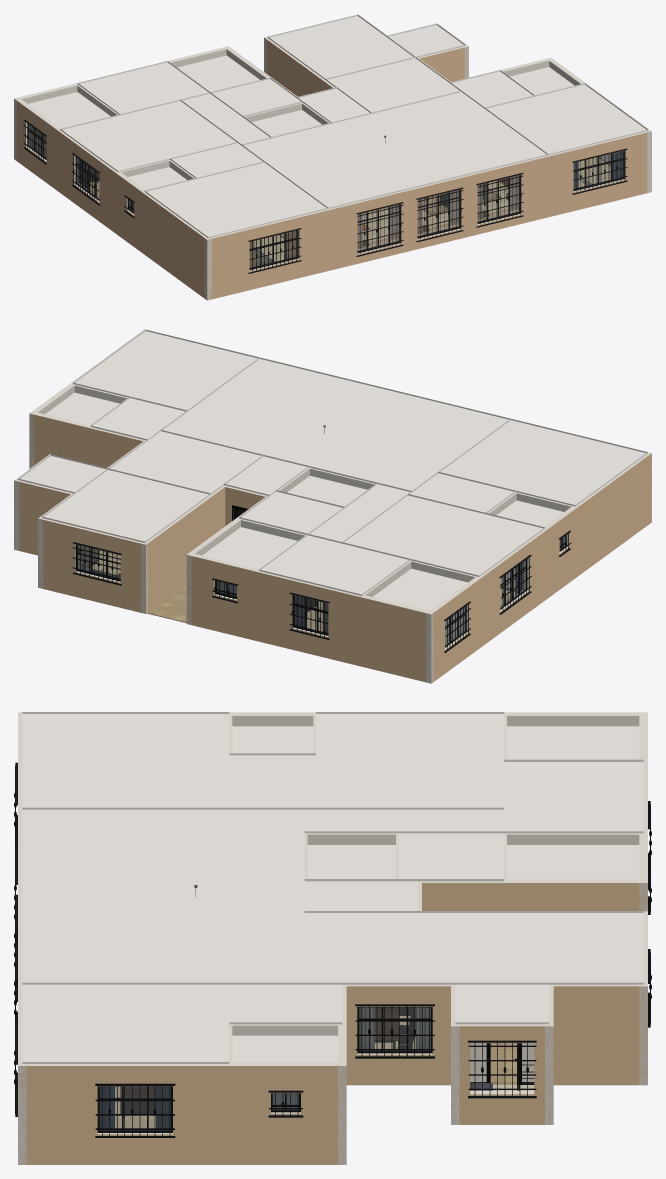
The model's file is home.glb.
The picture shows the model from 3 angles, top to bottom: view 1: azimuth 30°, elevation 25°; view 2: azimuth 150°, elevation 25°; view 3: azimuth 270°, elevation 25°; orthographic projection. The views are drawn at different scales.
Visible parts, largest first — view 1: LM_ceil, LM_walls, VC_north, VC_south, LM_floor, Win.S.13.4.Glass, Win.S.7.4.Glass, Win.S.10.4.Glass, Win.S.18.2.Glass, Win.S.2.Glass; view 2: LM_ceil, LM_walls, VC_north, LM_floor, Win.N6.4.4.Glass, Win.N4.13.5.Glass; view 3: LM_ceil, LM_walls, VC_north, Win.E2.8.9.Glass, VC_south, Win.E1.2.Glass, LM_floor.
Boxes of the visible parts, bbox=[...] form: LM_ceil: bbox=[28, 14, 648, 238]; LM_walls: bbox=[14, 14, 651, 300]; VC_north: bbox=[23, 119, 627, 273]; VC_south: bbox=[249, 135, 622, 267]; LM_floor: bbox=[90, 158, 610, 261]; Win.S.13.4.Glass: bbox=[478, 176, 518, 221]; Win.S.7.4.Glass: bbox=[358, 205, 398, 250]; Win.S.10.4.Glass: bbox=[418, 190, 458, 235]; Win.S.18.2.Glass: bbox=[574, 151, 622, 188]; Win.S.2.Glass: bbox=[250, 231, 295, 267]; LM_ceil: bbox=[18, 329, 647, 610]; LM_walls: bbox=[14, 329, 651, 683]; VC_north: bbox=[72, 505, 571, 652]; LM_floor: bbox=[90, 550, 515, 631]; Win.N6.4.4.Glass: bbox=[294, 596, 327, 632]; Win.N4.13.5.Glass: bbox=[78, 545, 120, 578]; LM_ceil: bbox=[22, 712, 643, 1063]; LM_walls: bbox=[18, 712, 647, 1164]; VC_north: bbox=[14, 762, 651, 1137]; Win.E2.8.9.Glass: bbox=[359, 1007, 430, 1050]; VC_south: bbox=[99, 884, 298, 1128]; Win.E1.2.Glass: bbox=[100, 1087, 170, 1130]; LM_floor: bbox=[115, 1016, 534, 1128].
Size of the model in its own units: 22.44 by 3.35 by 16.95.
122 materials, 50 textured.
